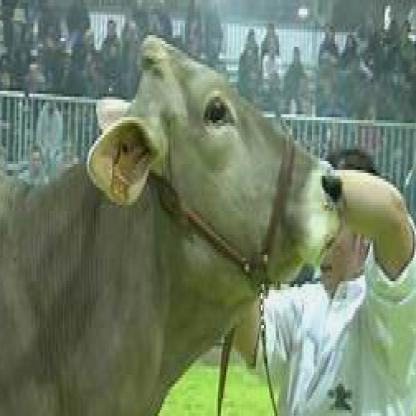cow: (0, 29, 349, 414)
